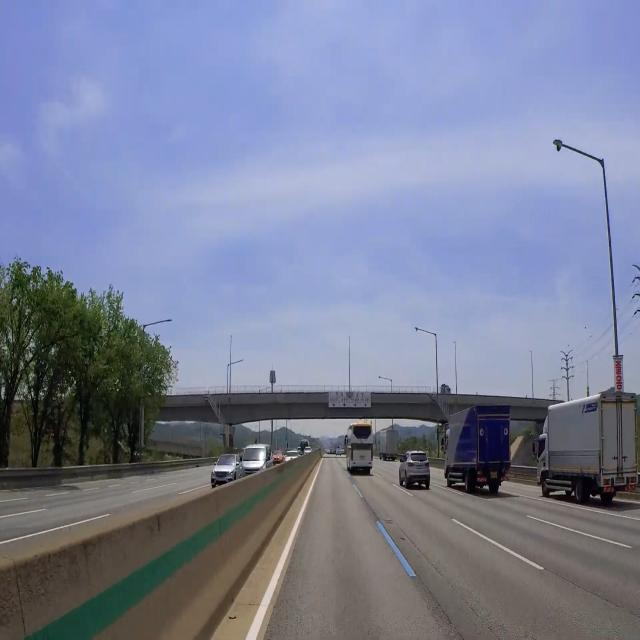car: (489, 469, 502, 488), (615, 474, 631, 489), (412, 462, 429, 474), (358, 451, 370, 466), (212, 475, 229, 484)
